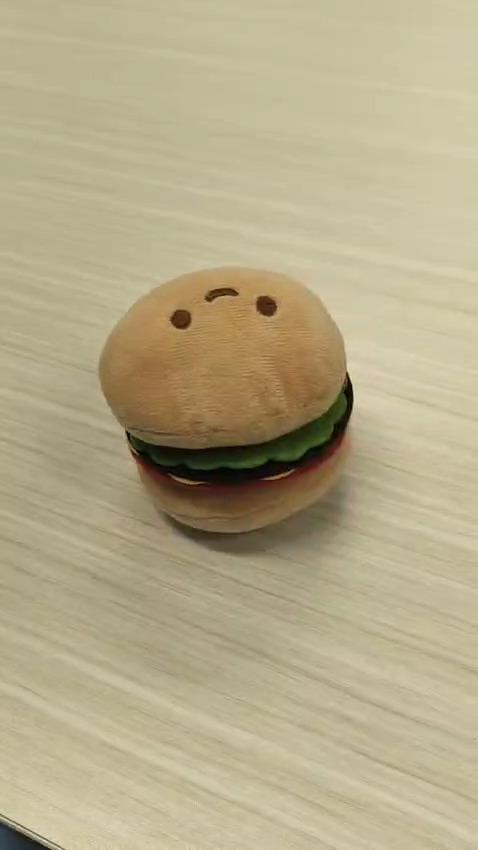hamburger: (97, 263, 354, 535)
